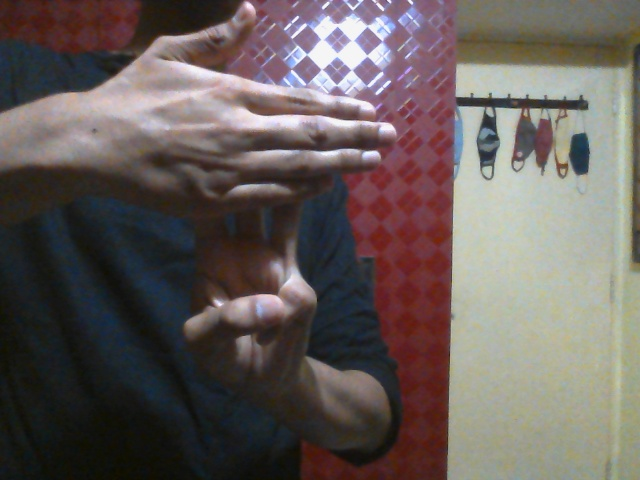M: (119, 1, 396, 384)
